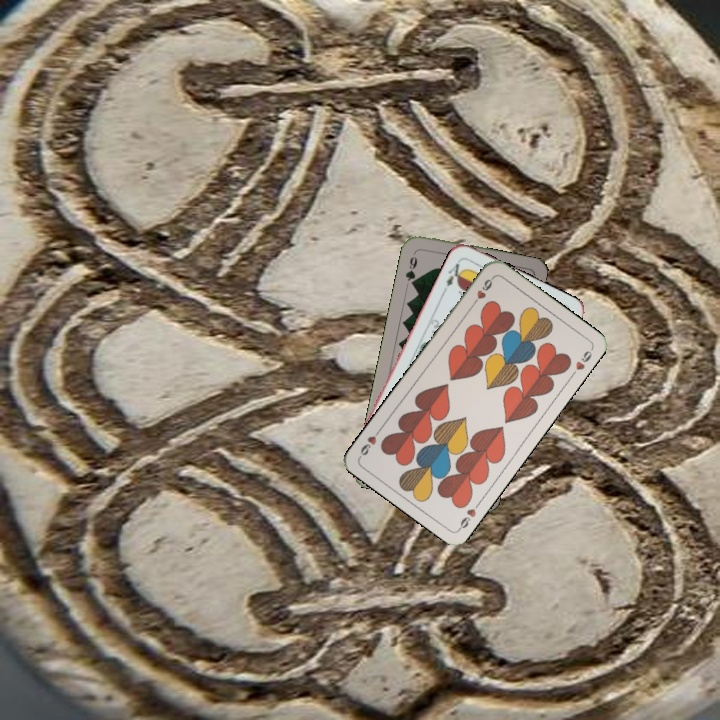EA: (442, 256, 467, 289)
G9: (401, 247, 420, 289)
H9: (468, 273, 497, 308), (454, 497, 483, 532)
